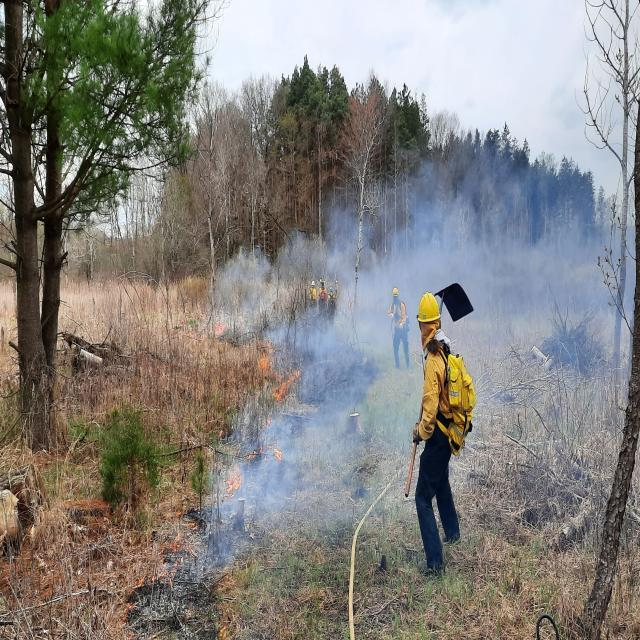Smoke: (198, 224, 408, 578), (403, 120, 640, 389)
